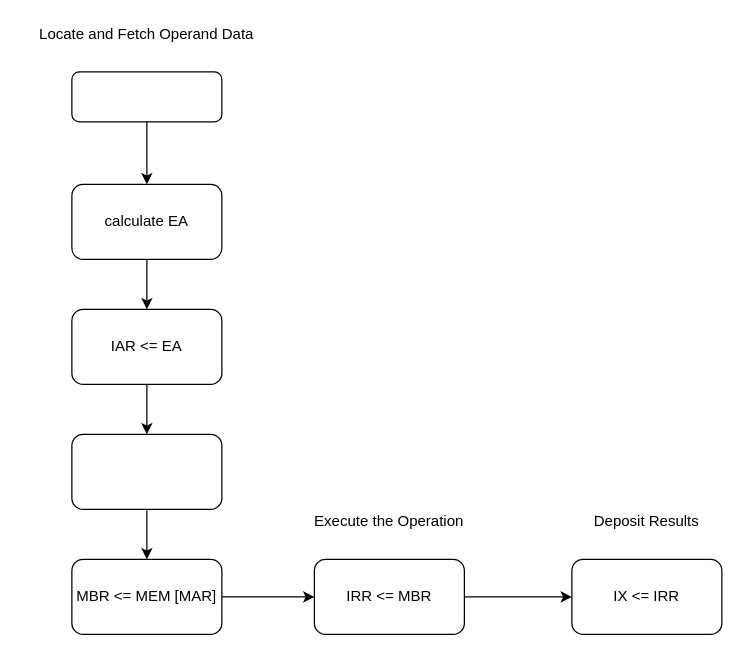
Some shapes in this 744 by 656 pixel diagram are drawn without their labels. Each missing label, with the centre of its shape:
"MAR <= IAR" belongs at [146,471].
"opcode == 41" belongs at [146,96].
